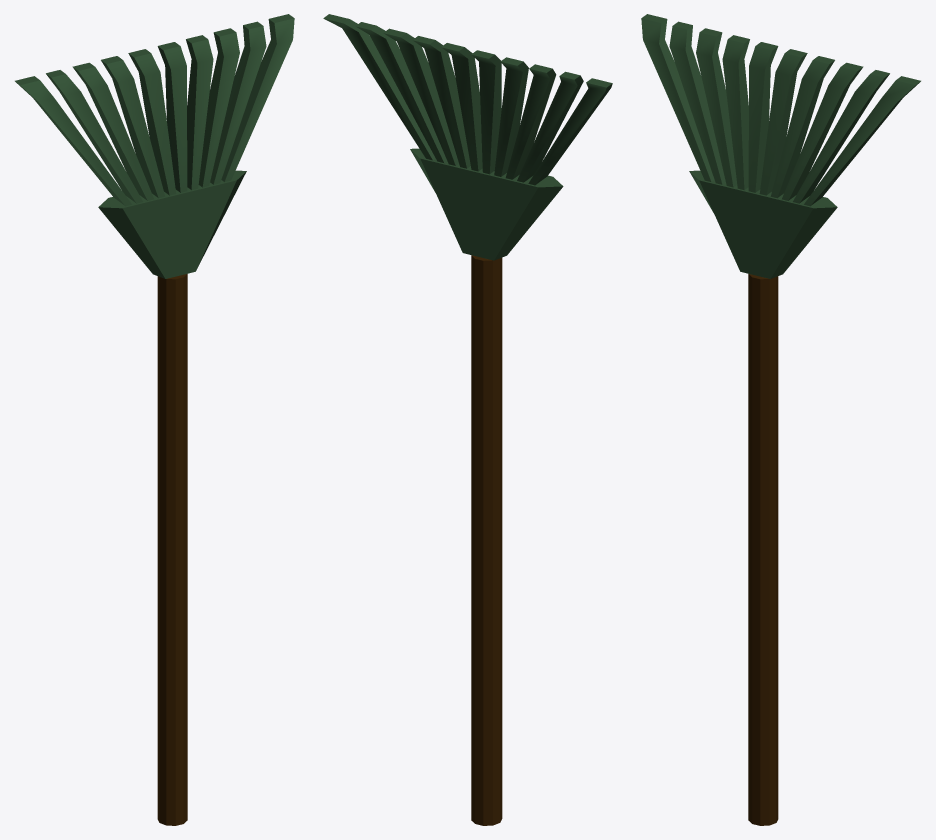
File: Rake.fbx
3 renders of one model, left to right at view 1: azimuth 30°, elevation 25°; view 2: azimuth 150°, elevation 25°; view 3: azimuth 330°, elevation 25°, orthographic. The views are drawn at different scales.
Visible parts, largest first — view 1: pCylinder1; view 2: pCylinder1; view 3: pCylinder1.
Part boxes in pixels (x1,y1,x2,y2): pCylinder1: [15, 14, 294, 825]; pCylinder1: [323, 14, 612, 825]; pCylinder1: [641, 14, 920, 825].
Bounding box in the file's own units: 105 × 277 × 19.3.
